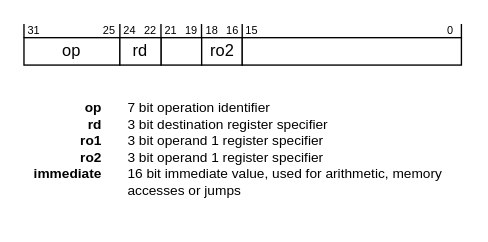
Image size: 488x242. Some labels were removed from this diagram. The centre of each missing label's shape, as x and y in pixels:
"immediate" goes at point 351,50.
"ro1" goes at point 181,50.
